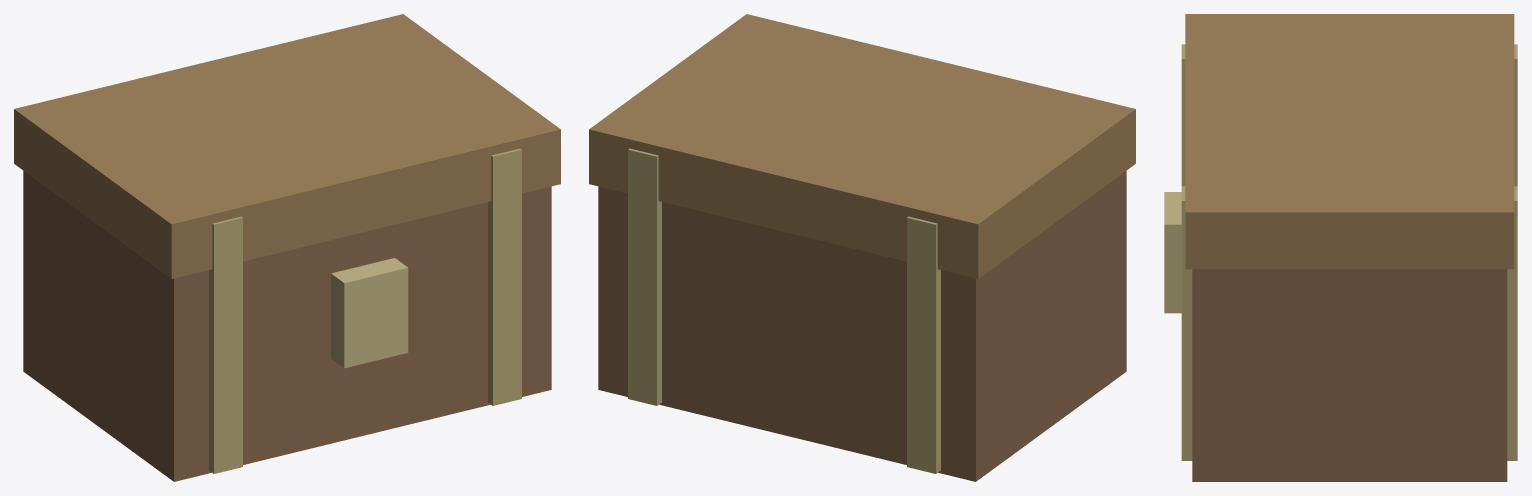
The model's file is loot_tier_chest.glb.
The picture shows the model from 3 angles, left to right: view 1: azimuth 30°, elevation 25°; view 2: azimuth 150°, elevation 25°; view 3: azimuth 270°, elevation 25°; orthographic projection. The views are drawn at different scales.
Visible parts, largest first — view 1: ChestLid, ChestBody, Band_1, Band_0, Lock; view 2: ChestBody, ChestLid, Band_1, Band_0; view 3: ChestLid, ChestBody, Band_1, Lock, Band_0.
Part boxes in pixels (left/top/right/bottom): ChestLid: left=14, top=14, right=560, bottom=278; ChestBody: left=23, top=171, right=551, bottom=481; Band_1: left=488, top=148, right=521, bottom=405; Band_0: left=209, top=216, right=242, bottom=473; Lock: left=331, top=258, right=408, bottom=368; ChestBody: left=598, top=171, right=1126, bottom=481; ChestLid: left=589, top=14, right=1135, bottom=278; Band_1: left=628, top=148, right=661, bottom=405; Band_0: left=907, top=216, right=940, bottom=473; ChestLid: left=1185, top=14, right=1514, bottom=269; ChestBody: left=1192, top=269, right=1507, bottom=481; Band_1: left=1181, top=186, right=1517, bottom=460; Lock: left=1164, top=192, right=1181, bottom=313; Band_0: left=1181, top=44, right=1517, bottom=186.
Bounding box in the file's own units: 1.34 × 0.86 × 1.01.
